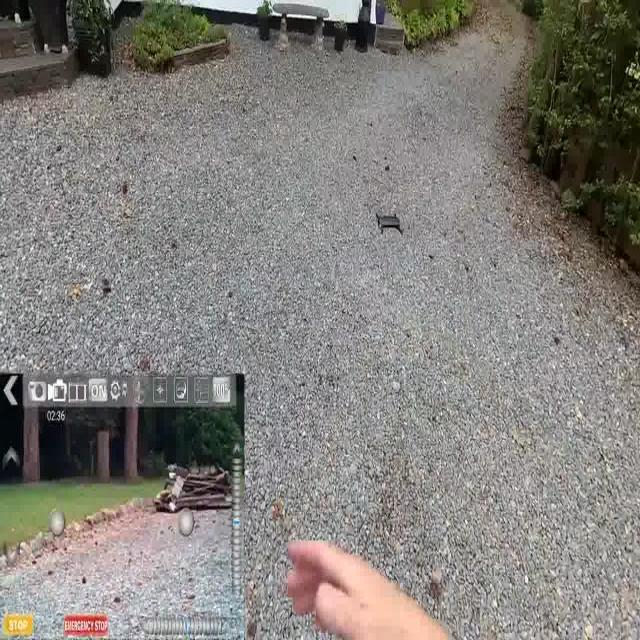drones: (369, 196, 411, 250)
